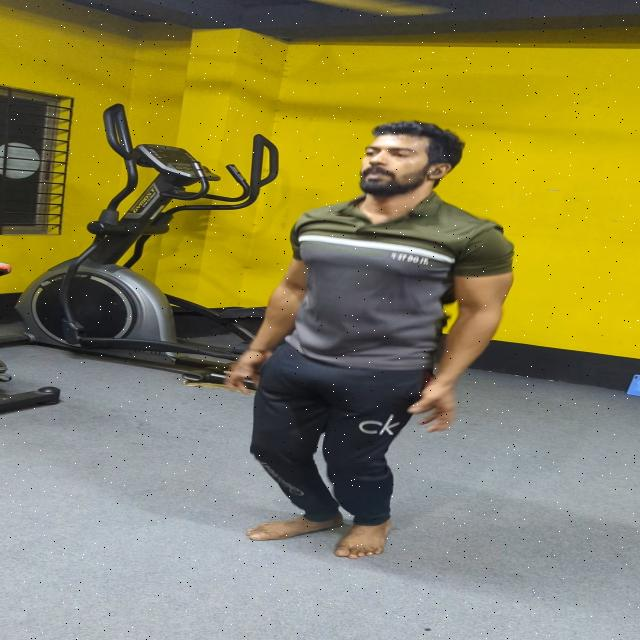Normal_JumpingJacks: (167, 89, 640, 625)
